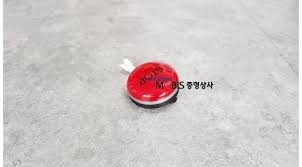bell: (125, 59, 187, 112)
